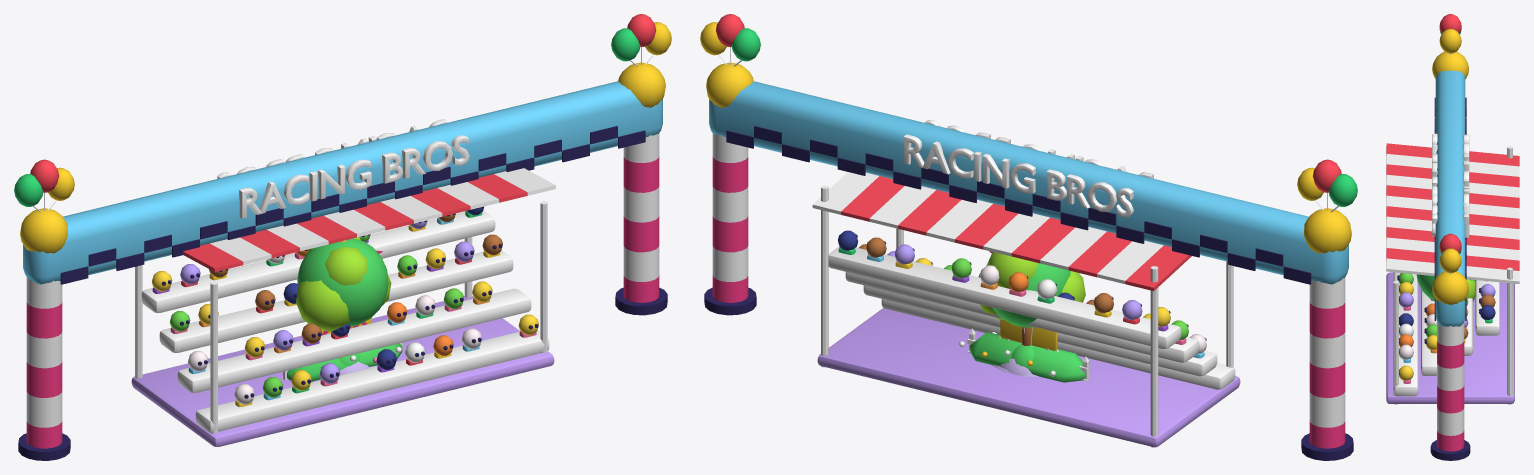
Rendered from common.glb.
3 views of the same model, side by side, from view 1: azimuth 30°, elevation 25°; view 2: azimuth 150°, elevation 25°; view 3: azimuth 270°, elevation 25° (orthographic). The views are drawn at different scales.
Visible parts, largest first — view 1: grandstand, start_gantry, tree_round, hedge; view 2: grandstand, start_gantry, tree_round, hedge, sign_left; view 3: grandstand, start_gantry, tree_round.
Part boxes in pixels (box(x1,y1,x2,y2)): grandstand: box(131, 168, 555, 446); start_gantry: box(14, 14, 671, 460); tree_round: box(296, 237, 391, 331); hedge: box(287, 343, 402, 381); grandstand: box(812, 172, 1240, 447); start_gantry: box(700, 14, 1357, 460); tree_round: box(978, 252, 1085, 345); hedge: box(959, 332, 1084, 382); sign_left: box(1000, 319, 1057, 350); grandstand: box(1386, 143, 1519, 404); start_gantry: box(1430, 14, 1470, 460); tree_round: box(1416, 274, 1475, 301).
Bounding box in the file's own units: 23 × 9.87 × 5.39.
